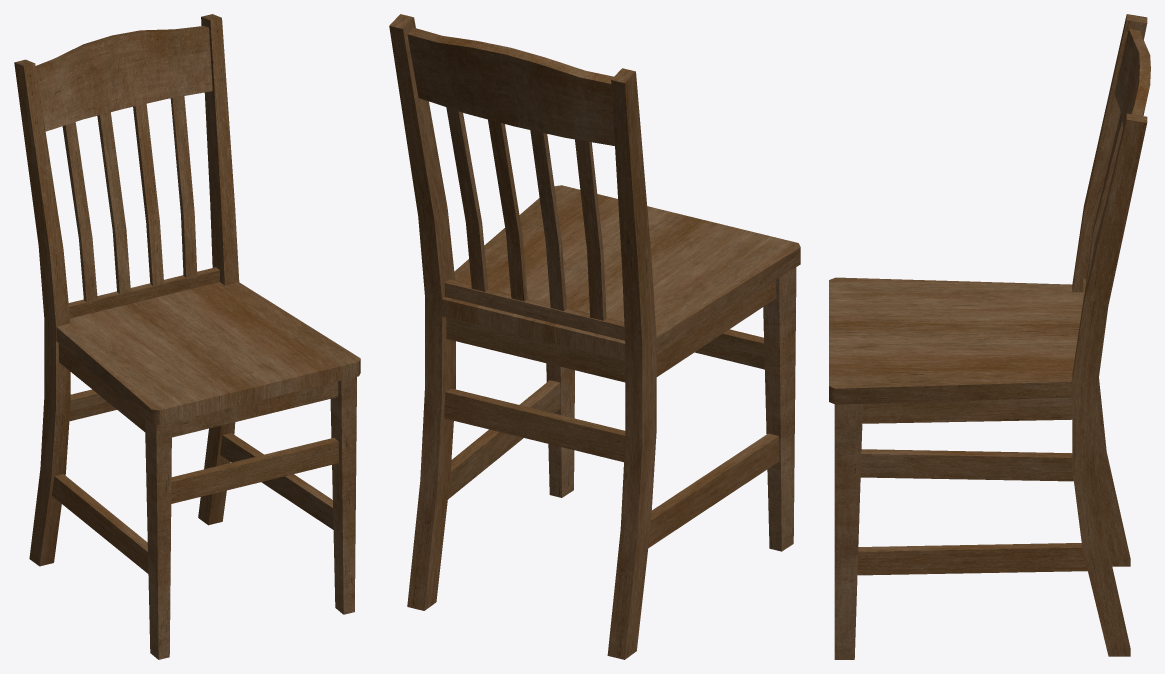
The picture shows the model from 3 angles, left to right: view 1: azimuth 30°, elevation 25°; view 2: azimuth 150°, elevation 25°; view 3: azimuth 270°, elevation 25°; orthographic projection. The views are drawn at different scales.
Parts seen in each view (by area): view 1: chair; view 2: chair; view 3: chair.
Boxes of the visible parts, box(x1,y1,x2,y2) form: chair: box(14, 14, 360, 659); chair: box(389, 14, 800, 659); chair: box(829, 14, 1150, 659).
Bounding box in the file's own units: 0.4947 × 1.12 × 0.6051.
1 material, 1 textured.
